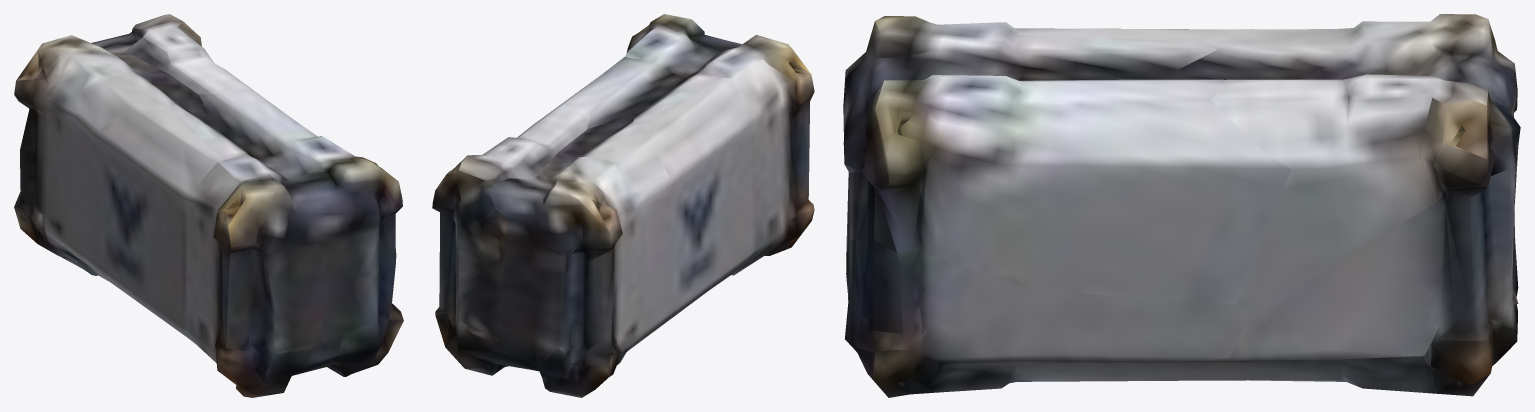
File: freighter_part_2.glb
3 renders of one model, left to right at view 1: azimuth 30°, elevation 25°; view 2: azimuth 150°, elevation 25°; view 3: azimuth 270°, elevation 25°, orthographic. The views are drawn at different scales.
Parts seen in each view (by area): view 1: part2; view 2: part2; view 3: part2.
Part boxes in pixels (x1,y1,x2,y2): part2: (14,14,403,397); part2: (432,14,814,397); part2: (843,14,1520,397).
Bounding box in the file's own units: 0.066 × 0.0713 × 0.1463.
Materials: 1 (1 with a texture image).
